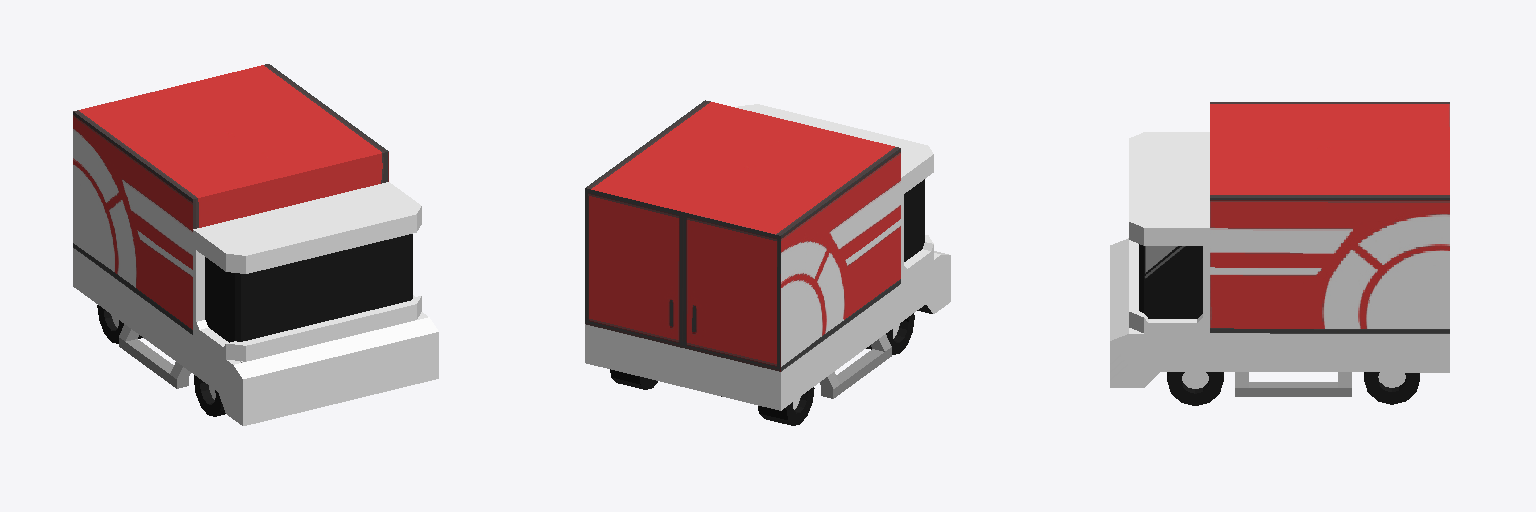
The picture shows the model from 3 angles: view 1: azimuth 30°, elevation 25°; view 2: azimuth 150°, elevation 25°; view 3: azimuth 270°, elevation 25°; orthographic projection.
Parts seen in each view (by area): view 1: Cube_Untitled; view 2: Cube_Untitled; view 3: Cube_Untitled.
Boxes of the visible parts, box(x1,y1,x2,y2) form: Cube_Untitled: box(73, 64, 438, 425); Cube_Untitled: box(585, 100, 950, 425); Cube_Untitled: box(1110, 102, 1449, 405).
Size of the model in its own units: 0.0207 by 0.0207 by 0.0301.
1 materials, 1 textured.